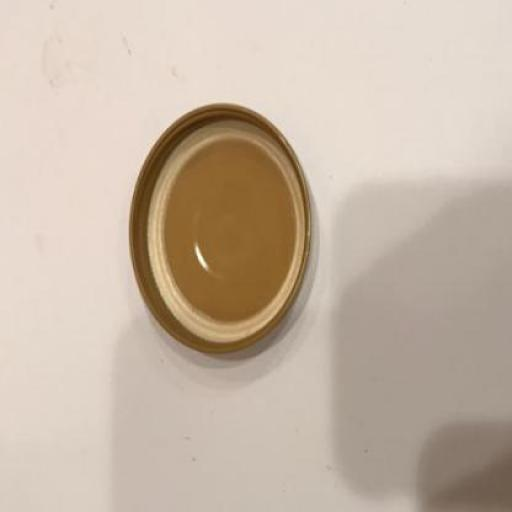metal: (128, 101, 314, 354)
